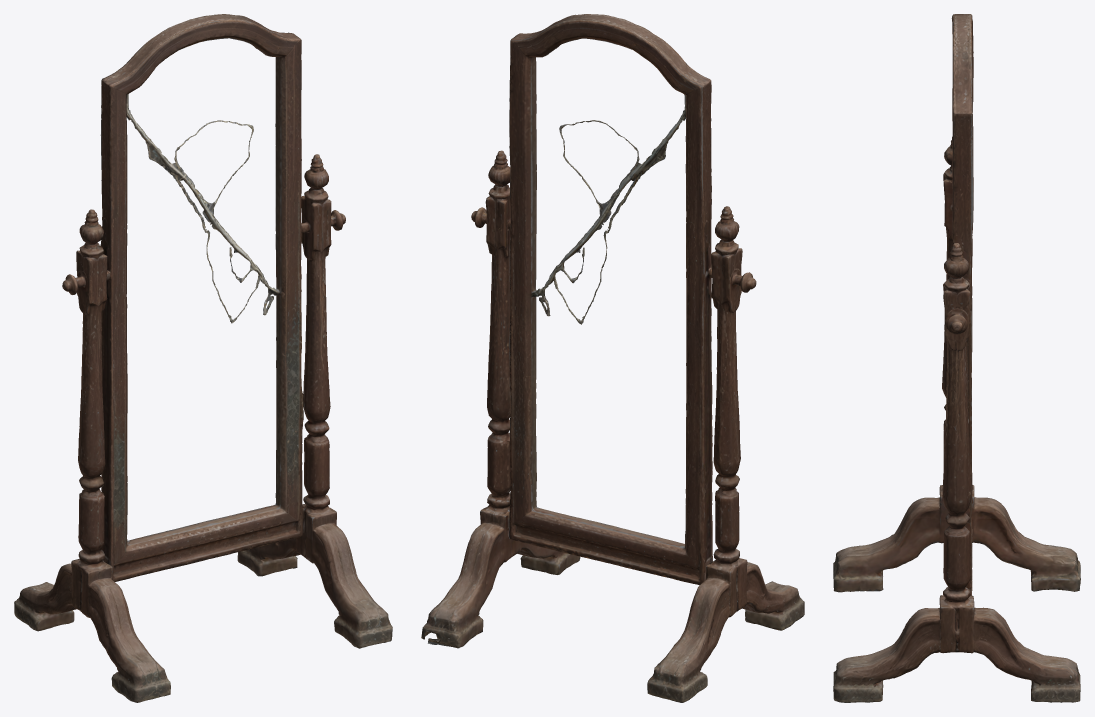
Rendered from CrackedMirror.fbx.
The picture shows the model from 3 angles, left to right: view 1: azimuth 30°, elevation 25°; view 2: azimuth 150°, elevation 25°; view 3: azimuth 270°, elevation 25°; orthographic projection.
Visible parts, largest first — view 1: texture_mapping; view 2: texture_mapping; view 3: texture_mapping.
Boxes of the visible parts, x1,y1,x2,y2 form: texture_mapping: [14, 14, 392, 702]; texture_mapping: [421, 14, 804, 702]; texture_mapping: [833, 14, 1080, 702].
Bounding box in the file's own units: 0.4856 × 0.3672 × 1.01.
Materials: 1 (1 with a texture image).
